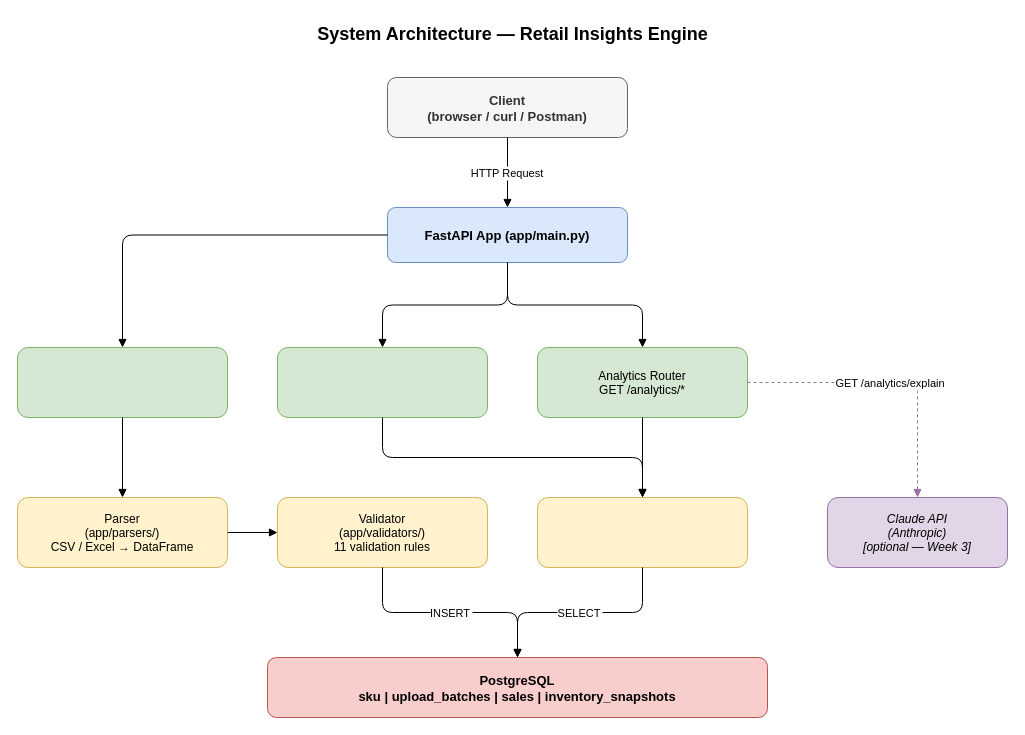
This 1025x735 diagram has some shape labels left out. Here are the shapes that lost their labels. From the top down, the centre of each, then its label:
At point 122,382: "Upload Router POST /upload/sales POST /upload/inventory".
At point 382,382: "Products Router GET /products GET /upload-batches".
At point 642,532: "Services (app/services/) analytics + query logic".
